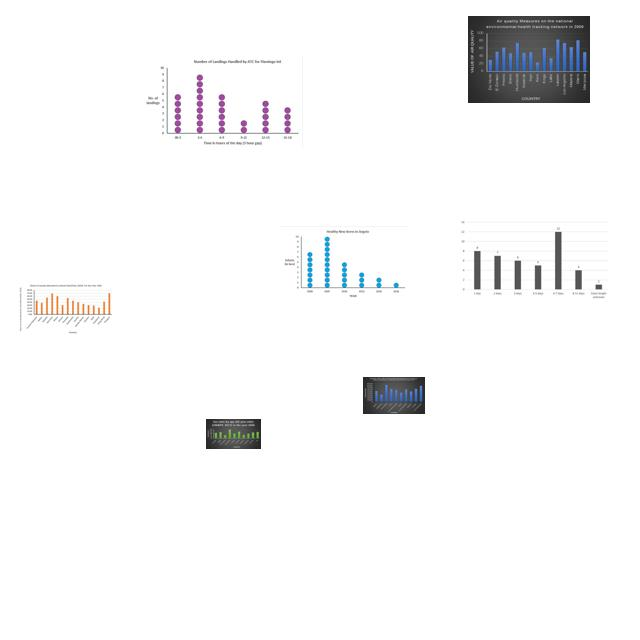Graph: (142, 56, 303, 149), (458, 213, 614, 301), (468, 16, 590, 103), (280, 226, 408, 301), (19, 283, 113, 335), (363, 377, 425, 414), (206, 419, 261, 449)
